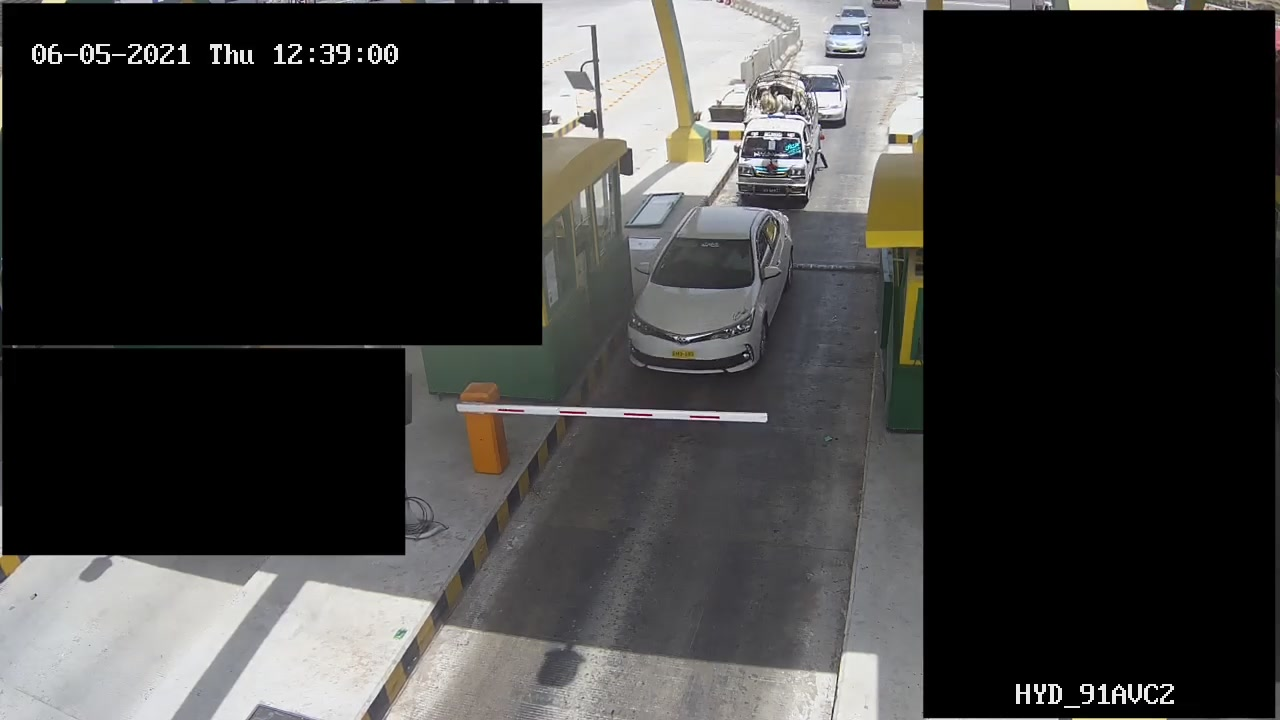F1: (618, 201, 798, 379), (733, 70, 826, 206)
